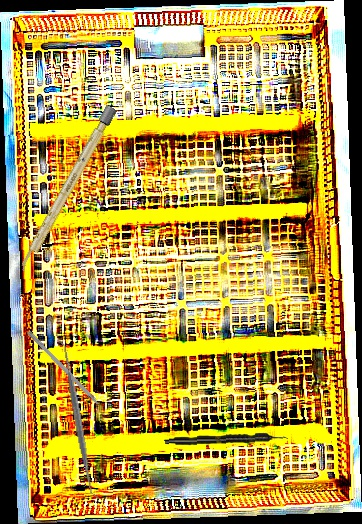Chopper: (22, 330, 112, 422)
Handpiece: (164, 432, 288, 447)
Scalpel Handle: (16, 104, 118, 274)
Spatula Surgical: (55, 338, 102, 502)
